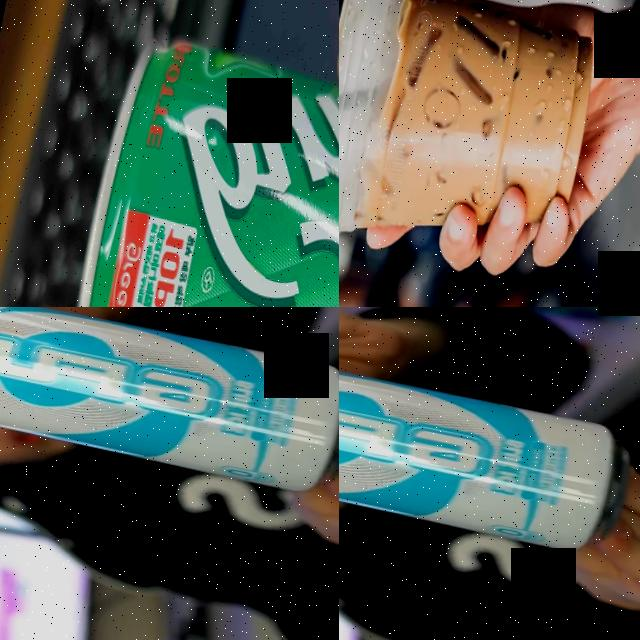can: (50, 30, 339, 307), (339, 316, 640, 559), (0, 307, 339, 500)
cup: (339, 0, 613, 295)
